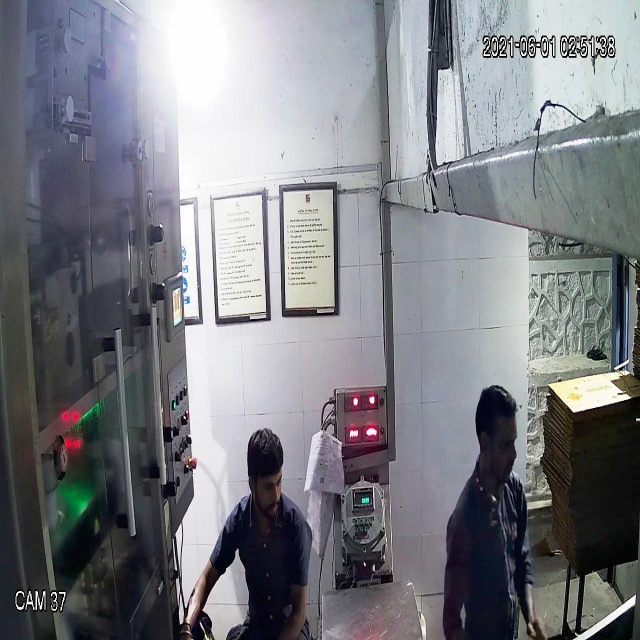Sin_gafas: (240, 463, 286, 498)
